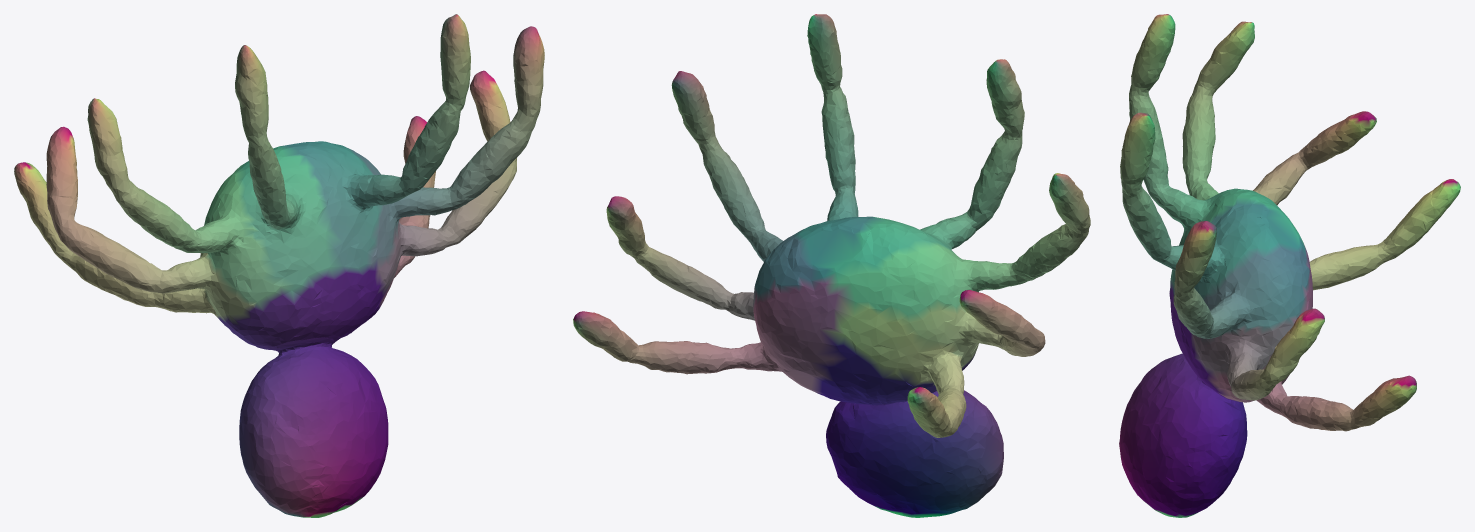
Rendered from spider-11.off.obj.
3 views of the same model, side by side, from view 1: azimuth 30°, elevation 25°; view 2: azimuth 150°, elevation 25°; view 3: azimuth 270°, elevation 25° (orthographic). The views are drawn at different scales.
Size of the model in its own units: 1.41 by 1.48 by 0.9978.
